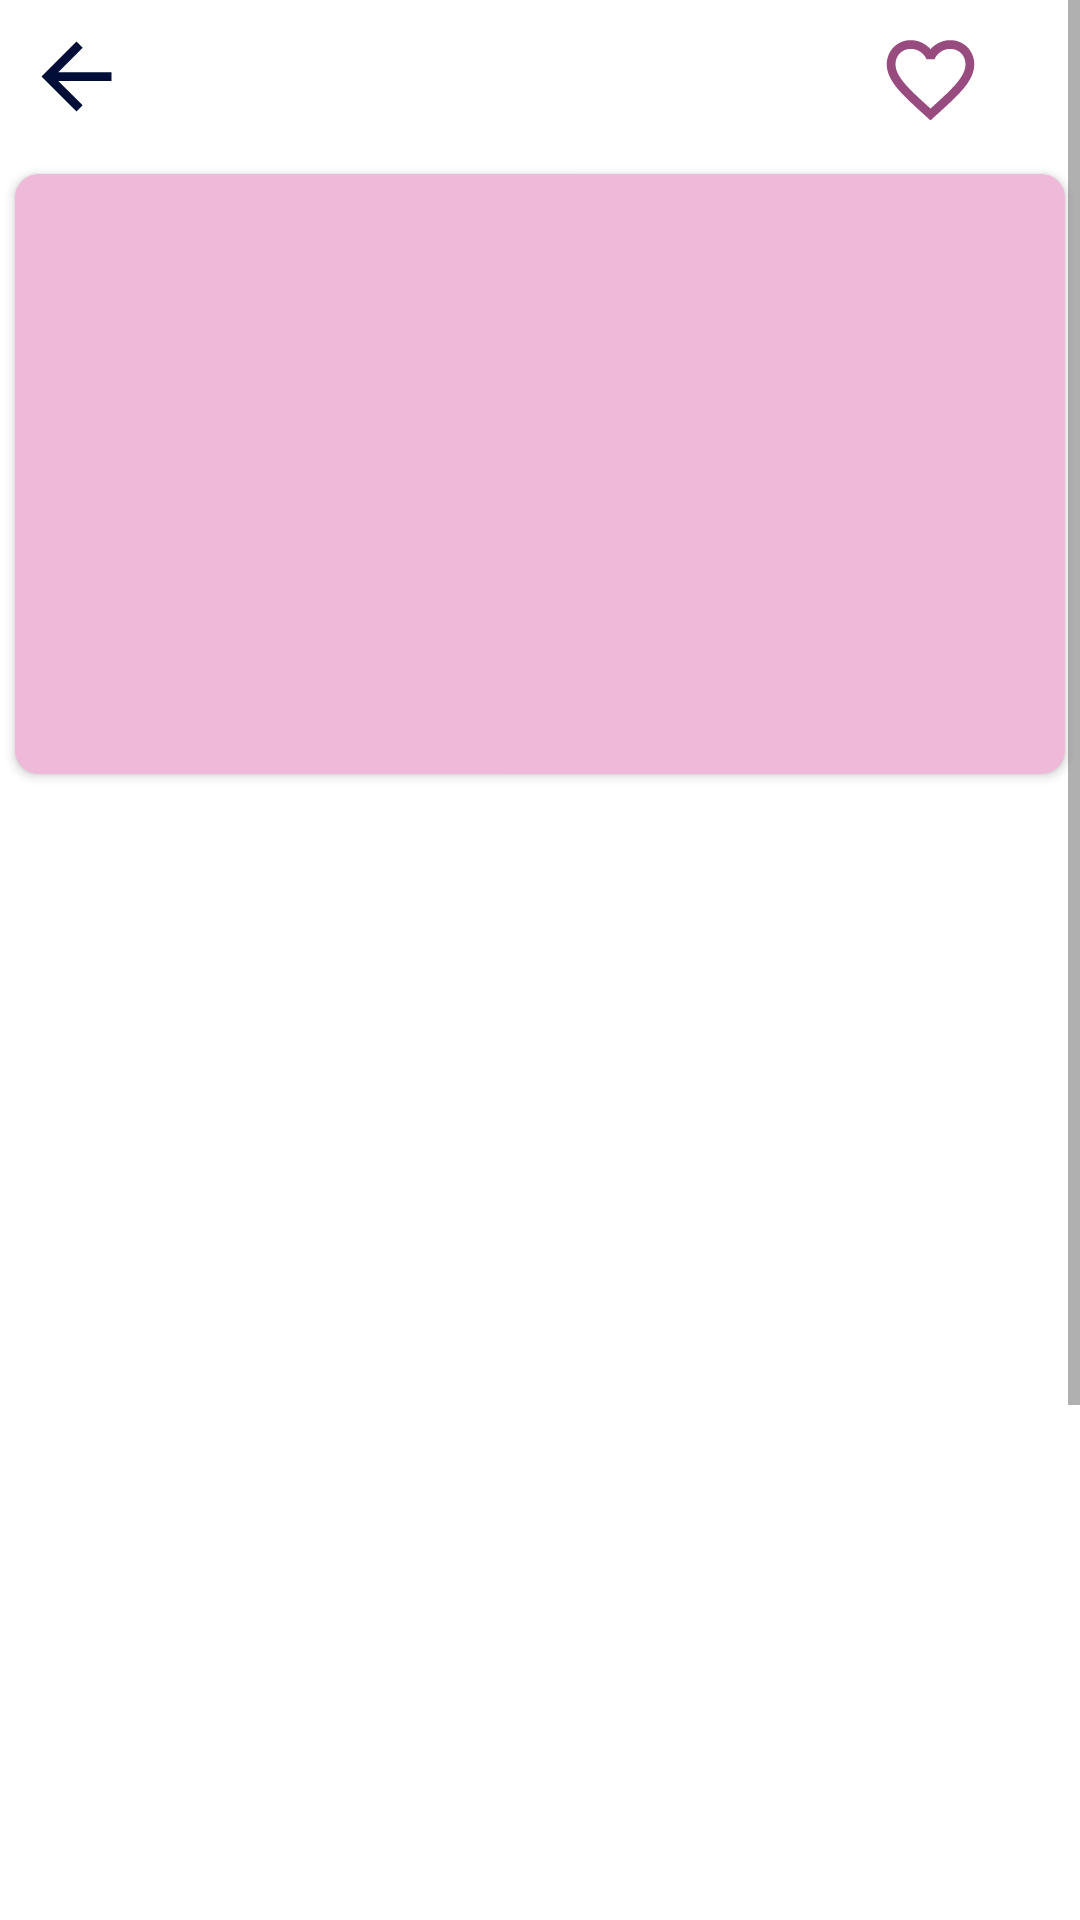

Locate icon controls on the screen. Image size 1080w x 1920h, boxes as (x1, y1, x2, y2).
arrow back: (41, 41, 112, 112)
favorite border: (886, 40, 975, 120)
